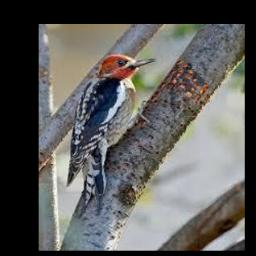Woodpecker: (67, 54, 156, 217)
